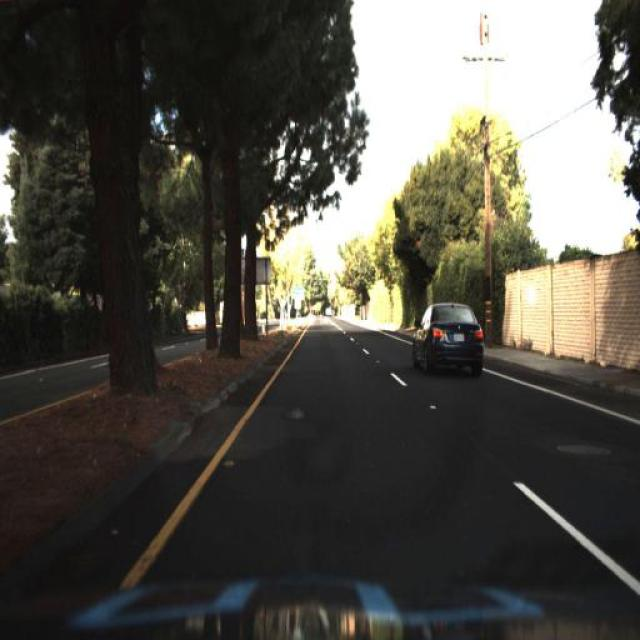car: (410, 300, 490, 379)
